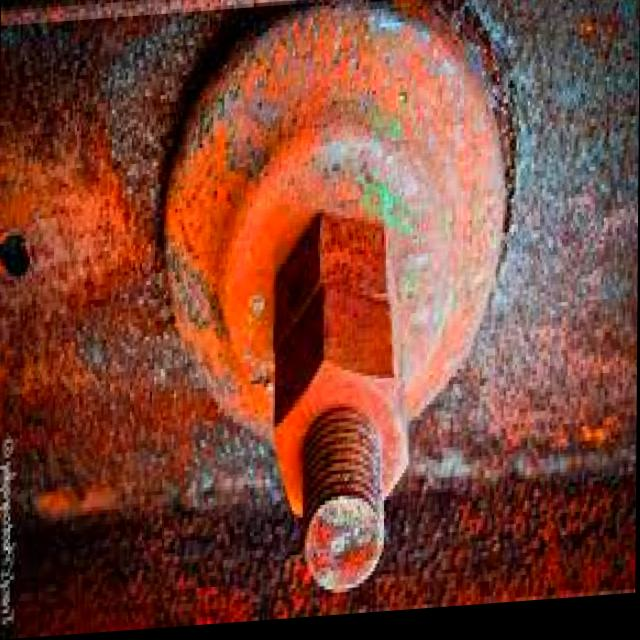Rusty bolt: (266, 294, 425, 551), (276, 209, 399, 371)
